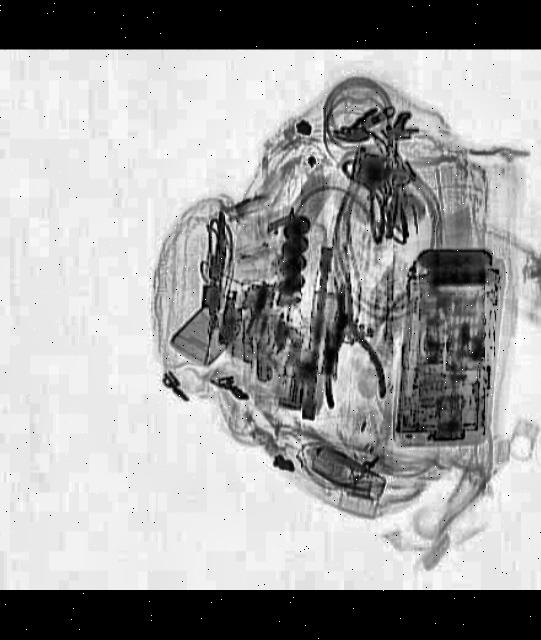Pliers: (309, 275, 386, 412)
